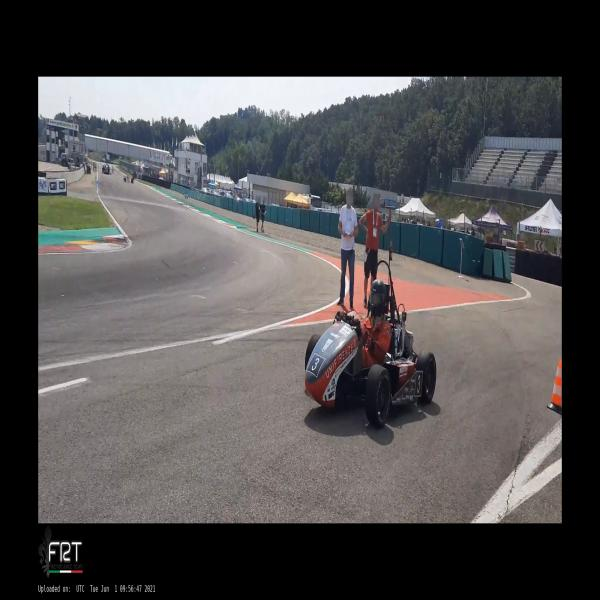large_orange_cone: (546, 360, 562, 415), (367, 290, 370, 314)
